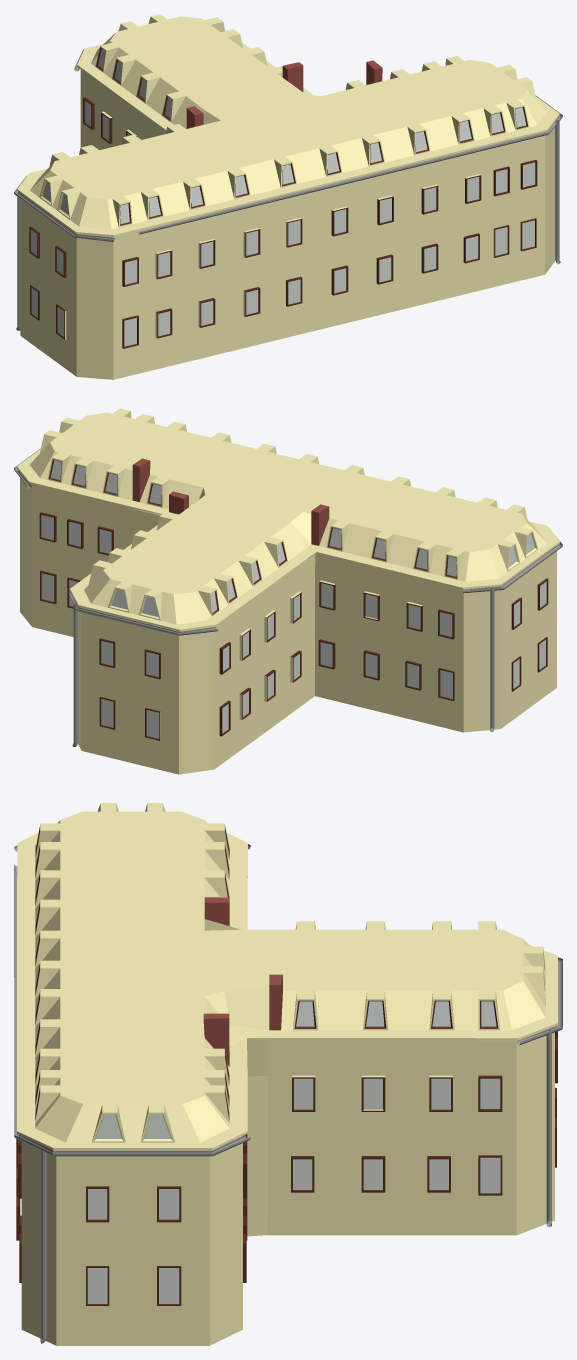
The model's file is house_T.fbx.
The picture shows the model from 3 angles, top to bottom: view 1: azimuth 30°, elevation 25°; view 2: azimuth 150°, elevation 25°; view 3: azimuth 270°, elevation 25°; orthographic projection. The views are drawn at different scales.
Visible parts, largest first — view 1: house_T; view 2: house_T; view 3: house_T.
Boxes of the visible parts, x1,y1,x2,y2 form: house_T: [14, 14, 562, 379]; house_T: [14, 408, 562, 774]; house_T: [14, 803, 562, 1345].
Size of the model in its own units: 2306 by 818 by 1641.
